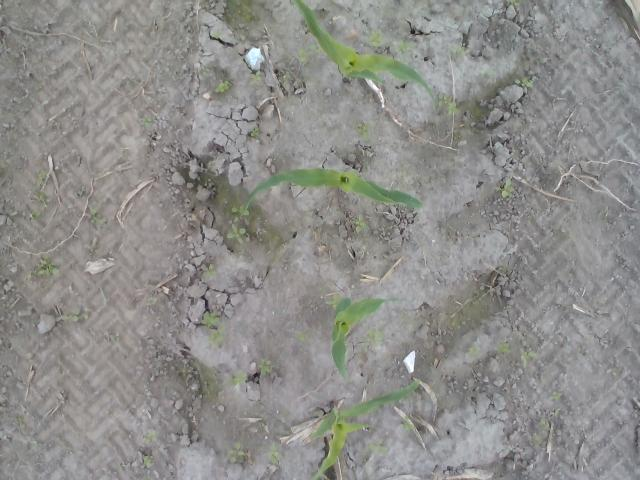Maize: (291, 0, 433, 98), (310, 382, 419, 480), (244, 167, 426, 212), (331, 296, 400, 382)
Weeds: (201, 311, 224, 346), (226, 207, 250, 240), (30, 255, 61, 278), (223, 439, 246, 464), (294, 42, 320, 64), (30, 192, 49, 220), (432, 95, 461, 113), (90, 208, 112, 226), (320, 286, 338, 308), (496, 176, 514, 198), (367, 328, 384, 350), (394, 38, 416, 54), (32, 169, 46, 193), (266, 441, 280, 465), (368, 30, 386, 48), (227, 368, 246, 385), (367, 440, 388, 455), (352, 120, 368, 139), (352, 214, 368, 233), (520, 350, 536, 368), (55, 311, 80, 322), (200, 262, 217, 278), (214, 79, 231, 94), (258, 358, 272, 376), (296, 329, 312, 343), (514, 77, 534, 88), (465, 344, 480, 358), (447, 46, 464, 58), (142, 431, 157, 444), (538, 416, 550, 430), (497, 342, 512, 353), (548, 391, 562, 401), (400, 420, 413, 430), (143, 455, 153, 467), (177, 368, 192, 376), (201, 64, 209, 78), (506, 0, 519, 8), (143, 117, 152, 128), (250, 128, 260, 137), (212, 31, 224, 38), (255, 70, 262, 81), (15, 415, 22, 426), (554, 405, 560, 415)
